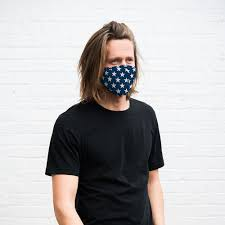FaceMask: (103, 65, 137, 96)
